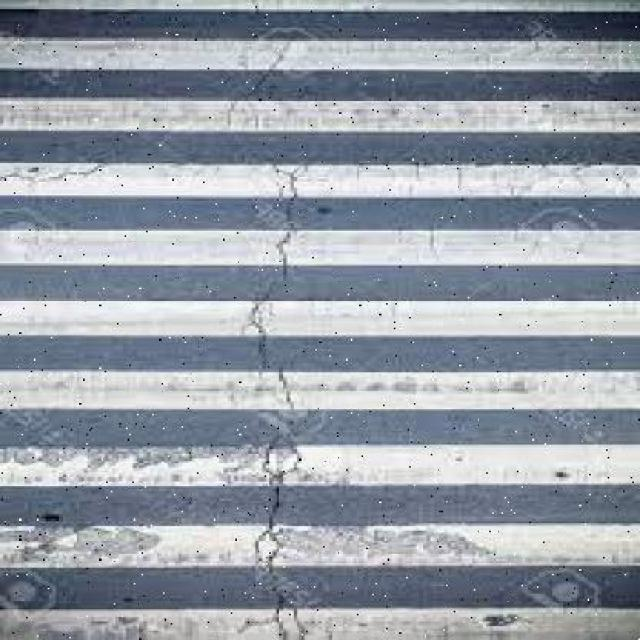Pedestrian crosswalk: (3, 0, 640, 638)
